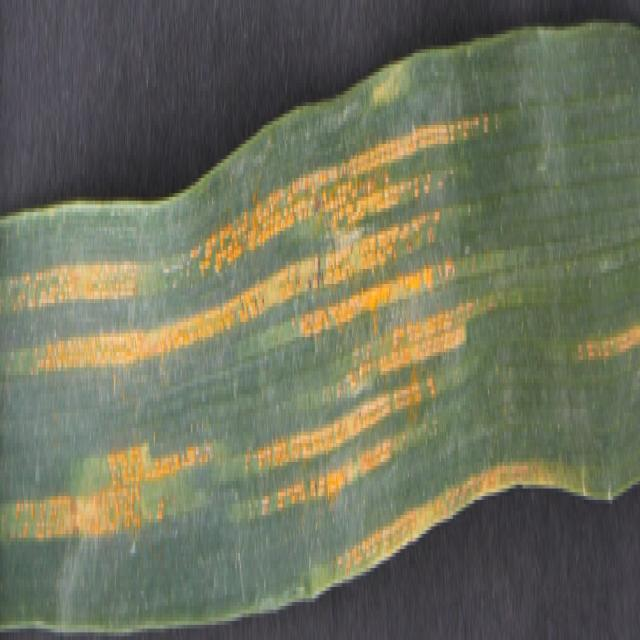leaf rust: (2, 72, 640, 587)
